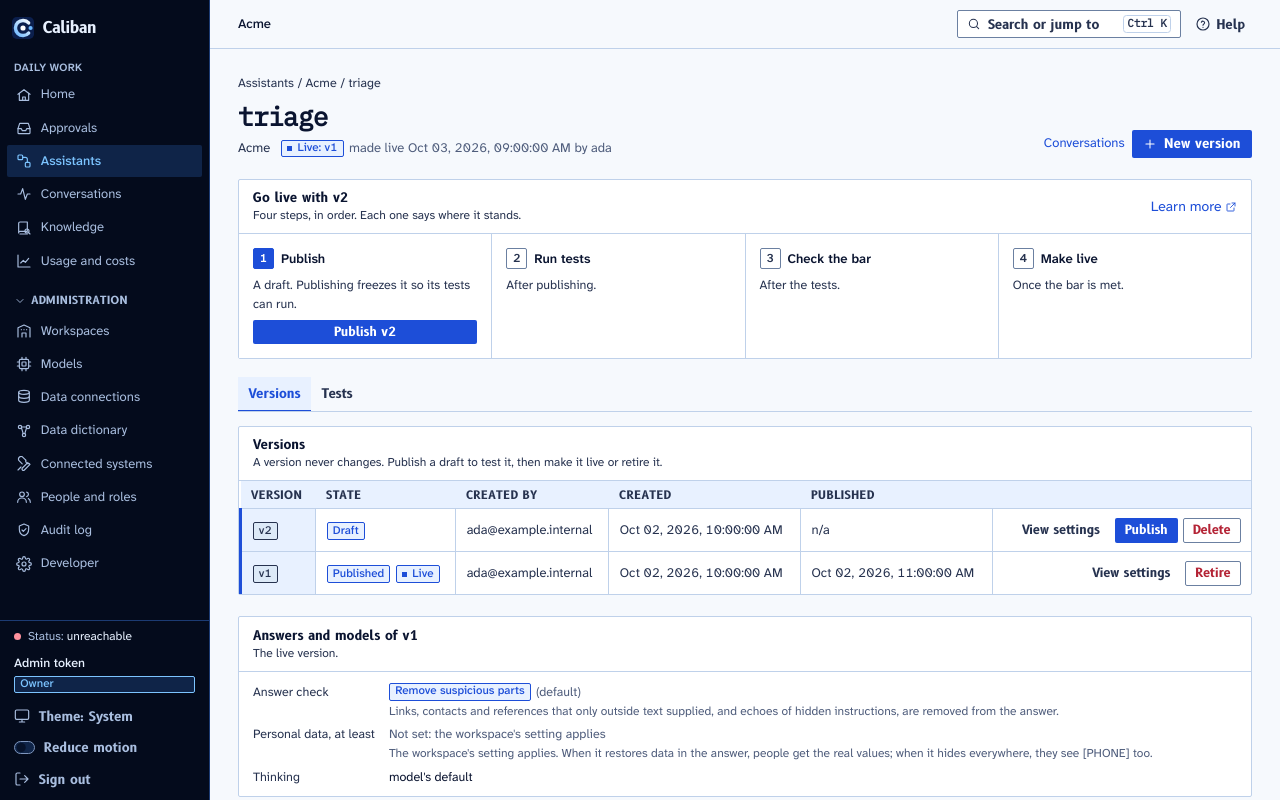
Test: NodeDetailPage › lists every problem when the control plane refuses to publish
Expected: the table named "Versions" is shown, top-left (239, 481), bottom-right (1251, 594)
Click the button with aria-label "Publish v2". click: {"x": 1146, "y": 530}
box: top-left (1115, 518), bottom-right (1178, 543)
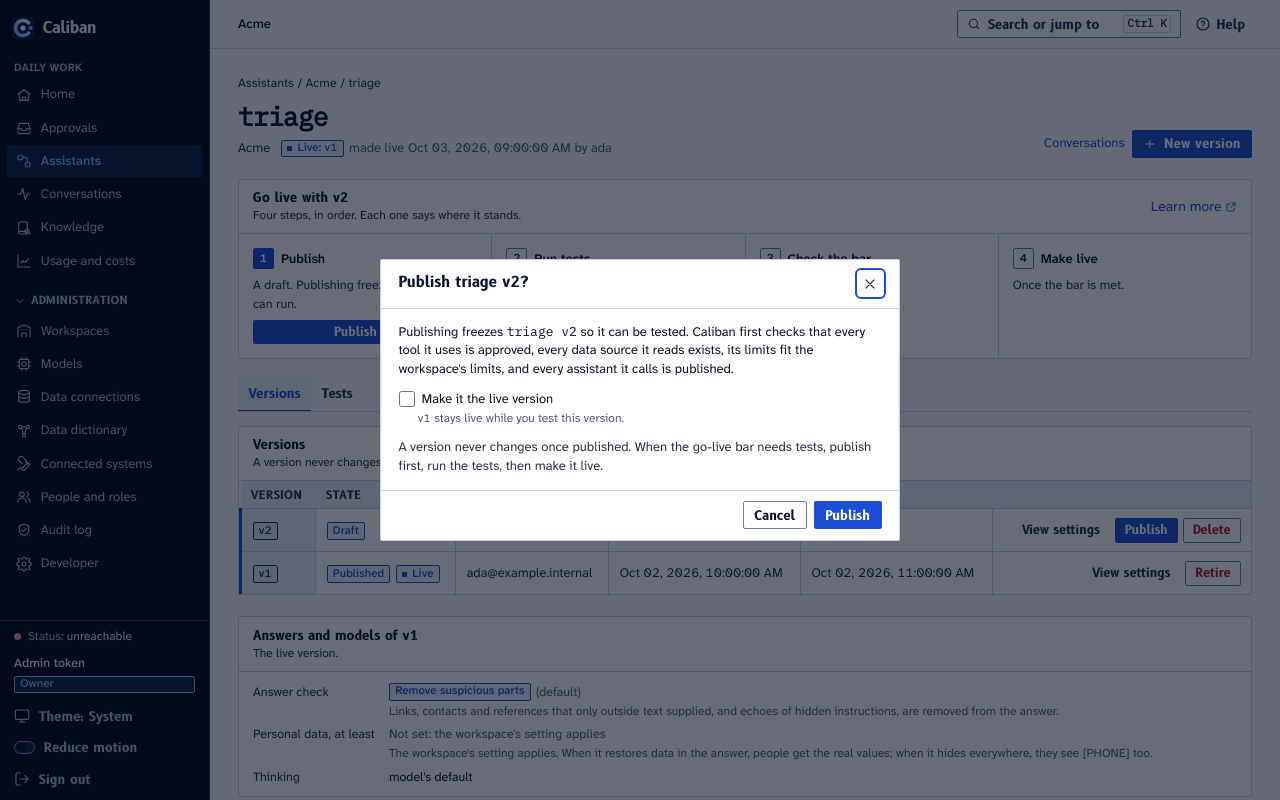
Click the button "Publish". click: {"x": 848, "y": 515}
box: top-left (814, 501), bottom-right (882, 529)
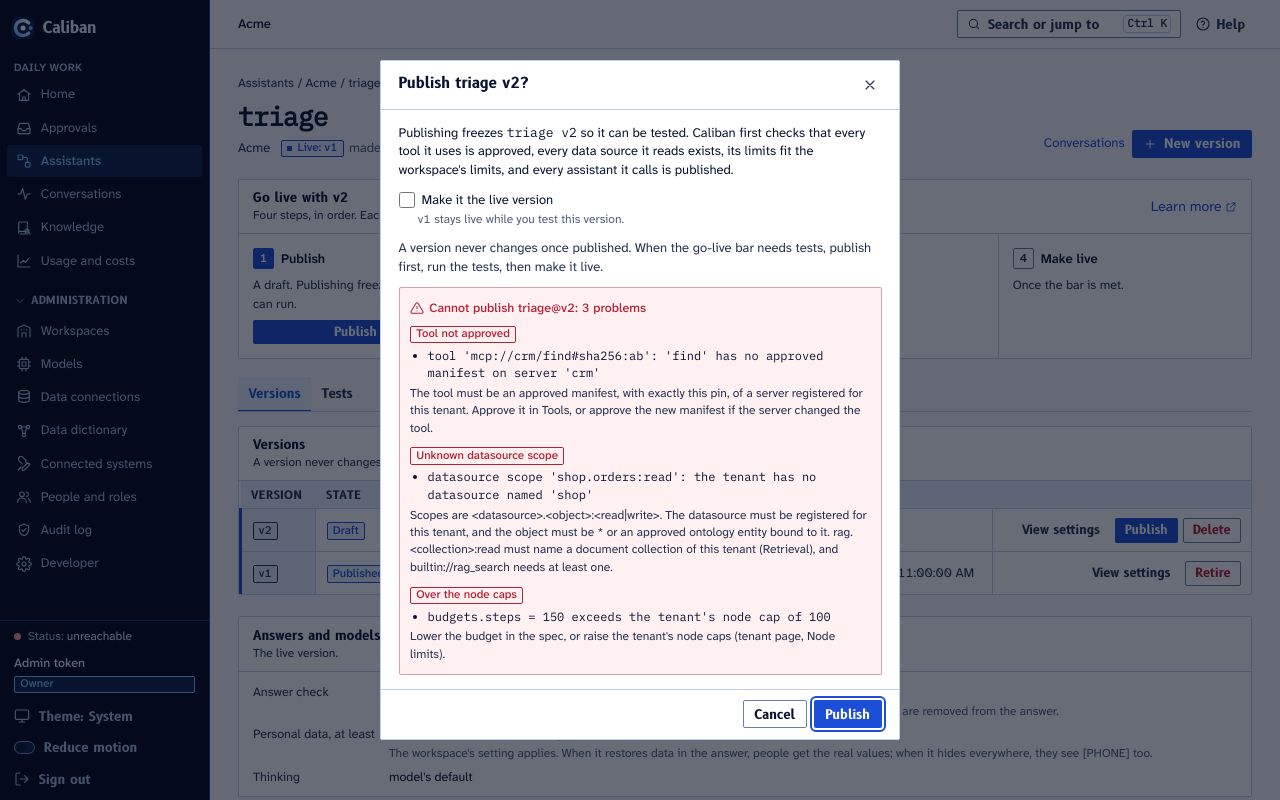
Expected: the message shows "Cannot publish triage@v2: 3 problems", top-left (398, 287), bottom-right (882, 675)
Expected: the text "Tool not approved" is shown, top-left (410, 326), bottom-right (516, 343)
Expected: the text "Unknown datasource scope" is shown, top-left (410, 447), bottom-right (564, 465)
